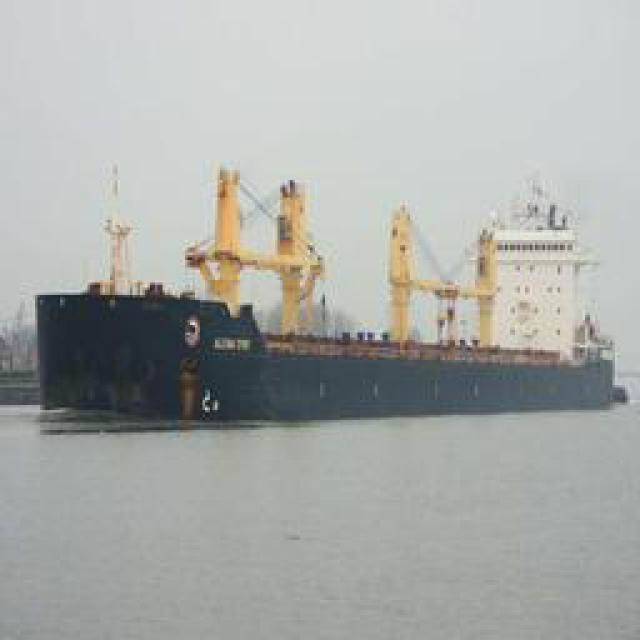Ship: (24, 169, 621, 426)
